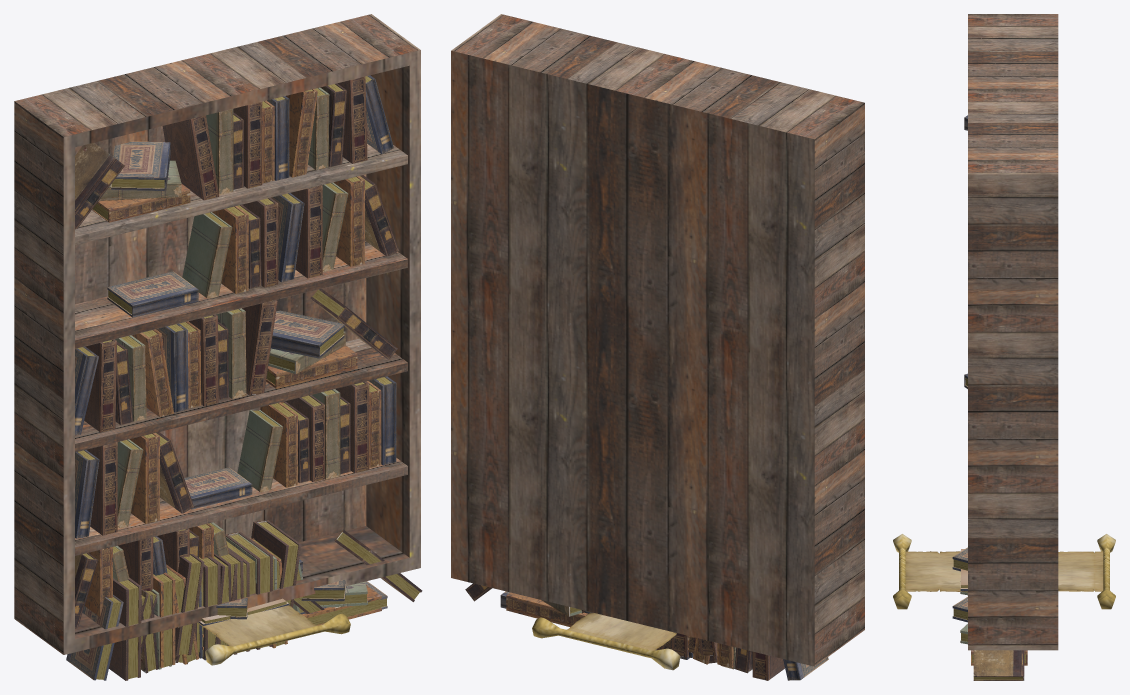
File: Books.glb
The picture shows the model from 3 angles, left to right: view 1: azimuth 30°, elevation 25°; view 2: azimuth 150°, elevation 25°; view 3: azimuth 270°, elevation 25°; orthographic projection. The views are drawn at different scales.
Visible parts, largest first — view 1: Bookshelf, Bookshelf_filled, book_line_6, Scroll_Open1, book_line_7, book_line_5, book_line_2, book_line_4; view 2: Bookshelf, Scroll_Open1, book_line_6, book_line_7; view 3: Bookshelf, Scroll_Open1, book_line_6.
Part boxes in pixels (x1,y1,x2,y2): Bookshelf: (14,14,420,654); Bookshelf_filled: (75,75,399,628); book_line_6: (66,520,422,680); Scroll_Open1: (198,605,350,665); book_line_7: (141,538,387,667); book_line_5: (175,554,324,656); book_line_2: (175,531,272,664); book_line_4: (214,538,287,650); Bookshelf: (451,14,864,666); Scroll_Open1: (532,612,680,670); book_line_6: (465,583,828,680); book_line_7: (500,591,752,667); Bookshelf: (968,14,1058,650); Scroll_Open1: (893,534,1115,609); book_line_6: (952,597,1027,680).
Bounding box in the file's own units: 1.17 × 1.76 × 0.6812.
8 materials, 8 textured.
